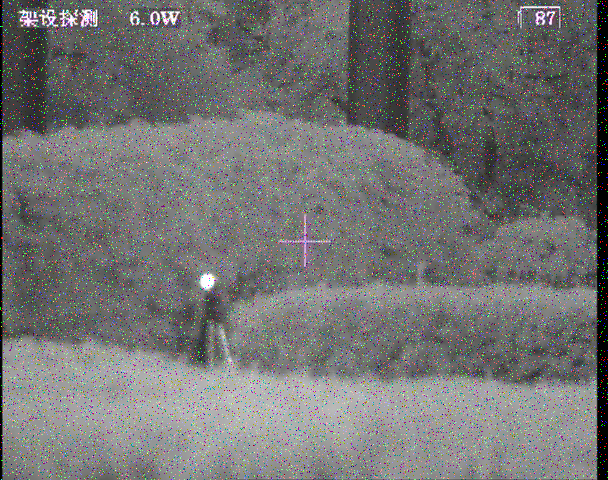my: (198, 273, 215, 290)
